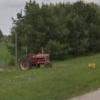Tractor: (11, 38, 63, 84)
